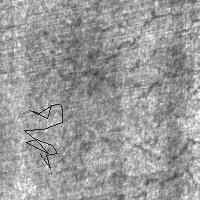crazing: (90, 10, 179, 101), (59, 133, 198, 186), (24, 104, 62, 168)
